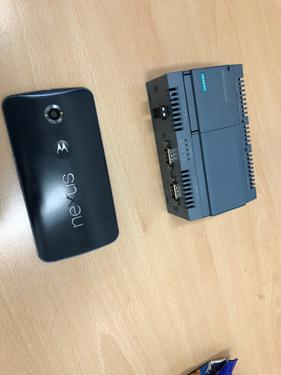device: (146, 64, 257, 222)
